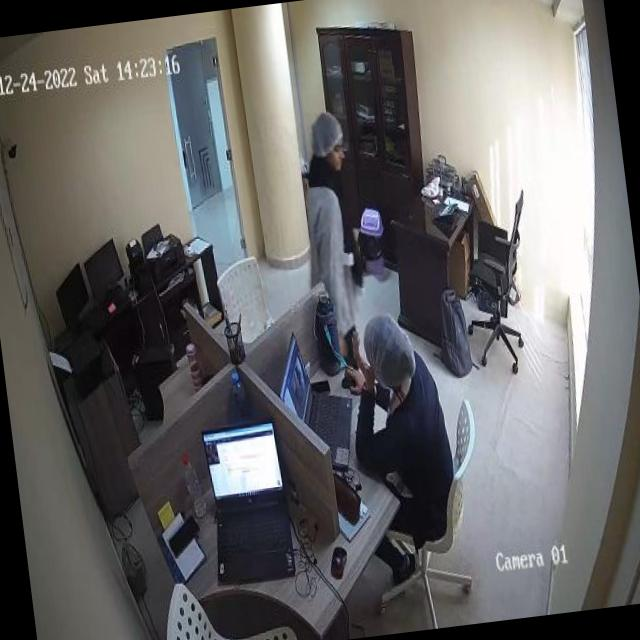hairnet: (362, 308, 416, 394), (305, 113, 344, 158)
